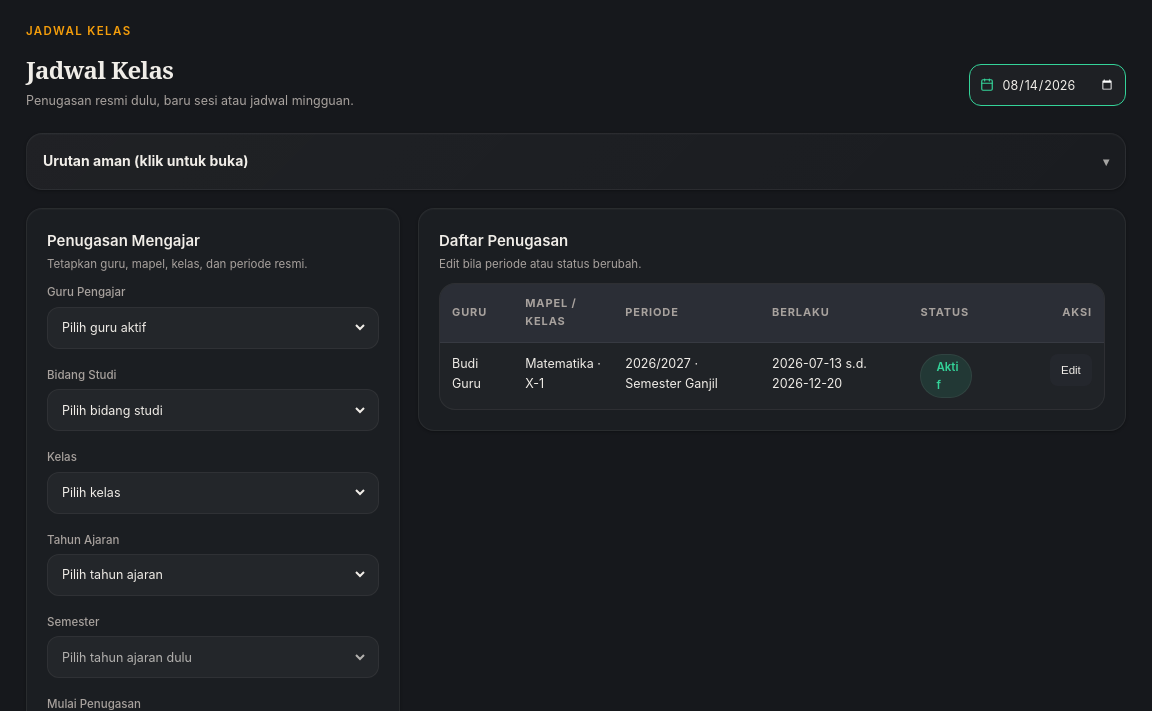
Wave B jadwal kelas › melindungi assignment yang hanya dipakai sebagai sumber guru pengganti
This screenshot has width=1152, height=711.
Click the button "Edit": (1071, 369) [1050, 353, 1092, 385]
(page scrolled)
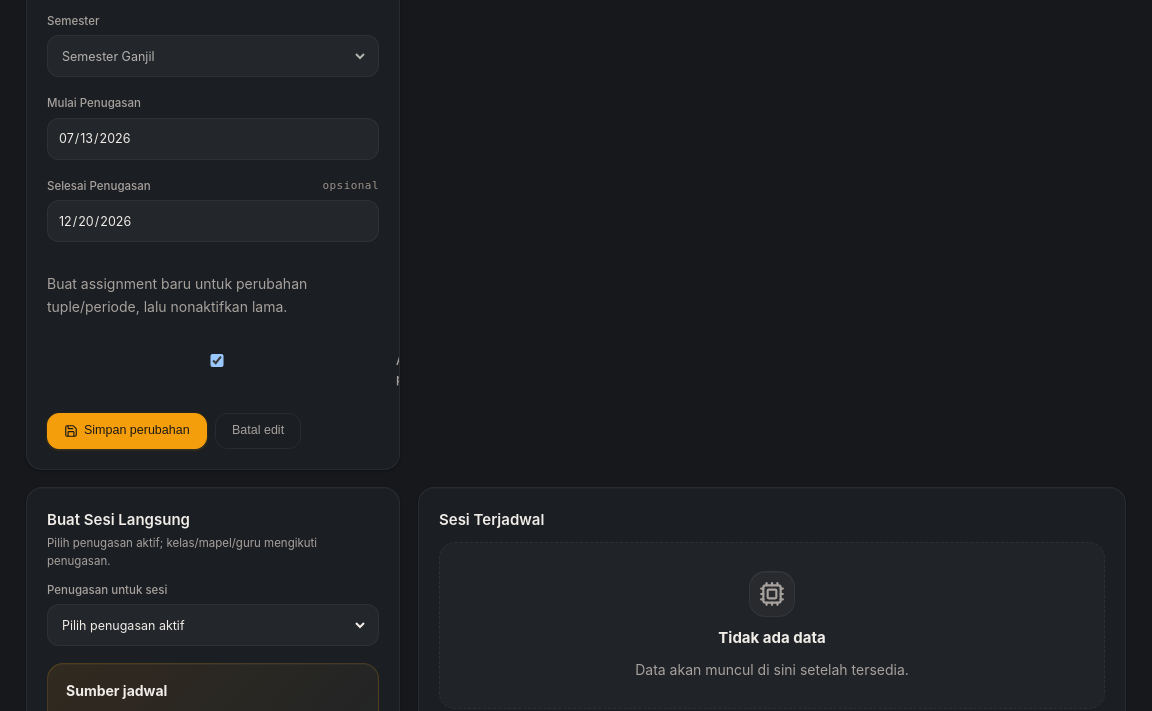
Expected: the dropdown named "Semester" is disabled, [58, 38, 368, 74]
Now the date field named "Mulai Penugasan" is disabled, box [58, 121, 368, 156]
Now the date field named "Selesai Penugasan" is disabled, box [58, 203, 368, 238]
